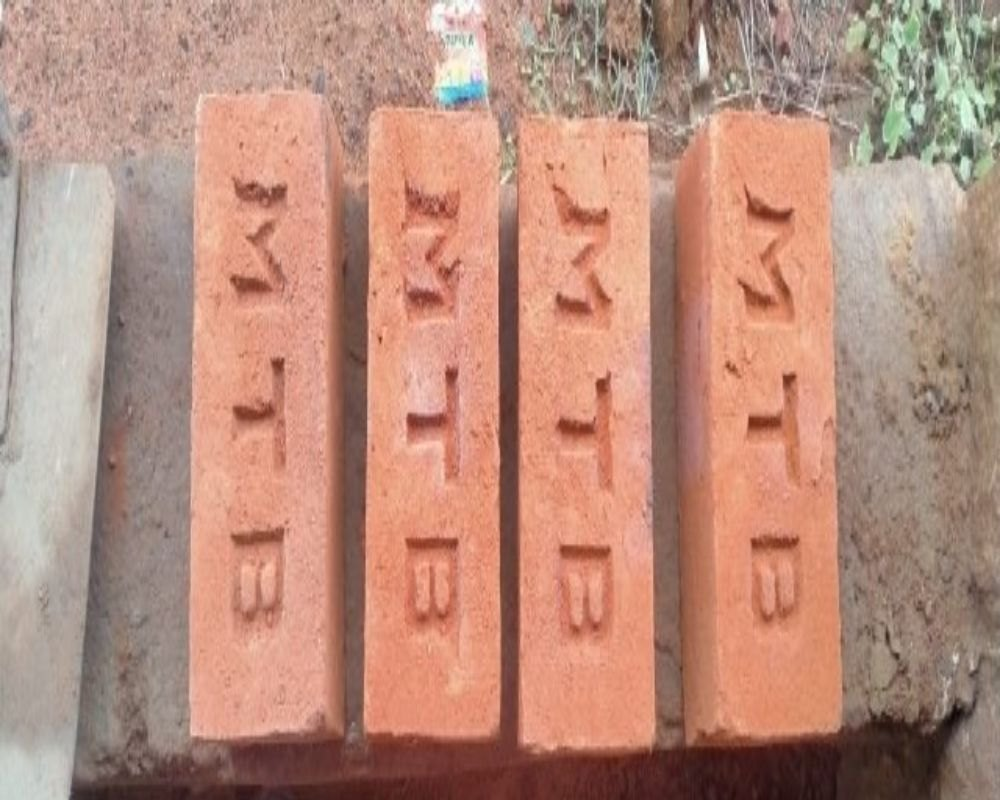brick: (184, 88, 326, 744), (520, 116, 654, 756), (362, 110, 496, 738), (708, 118, 838, 740)
